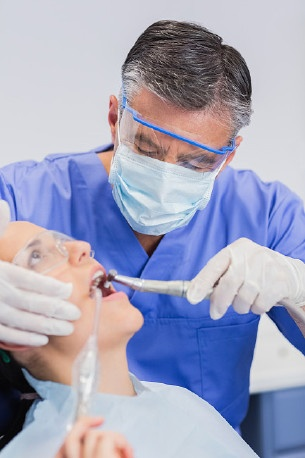Mask: (111, 118, 227, 234)
